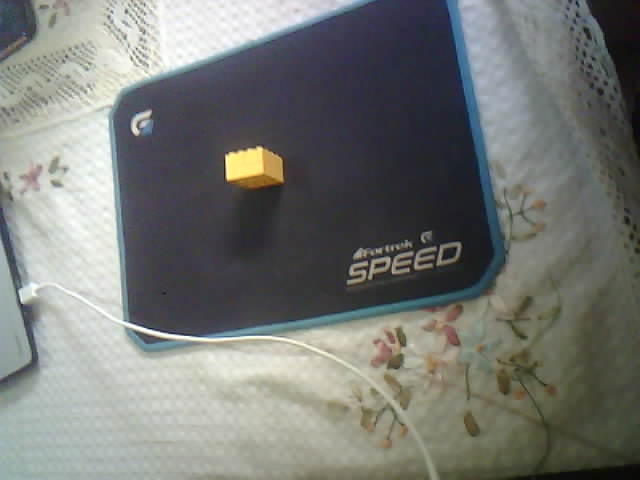lego: (223, 145, 284, 190)
